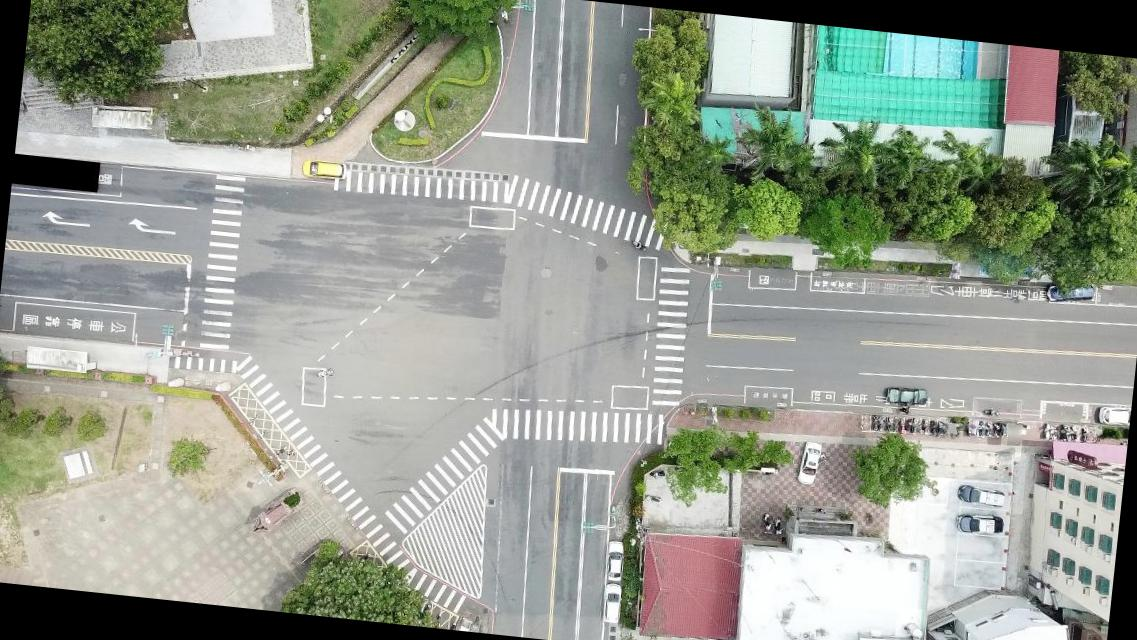vehicle: (794, 441, 824, 486), (1044, 280, 1094, 306), (956, 484, 1007, 508), (955, 512, 1005, 536), (300, 157, 348, 182), (883, 383, 929, 408), (603, 583, 624, 625), (603, 540, 624, 580), (1095, 405, 1130, 427)
